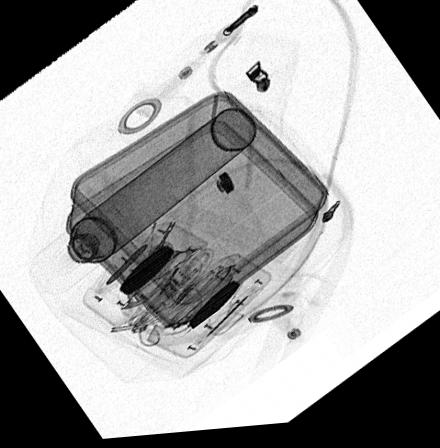Sprayer: (30, 112, 255, 293)
